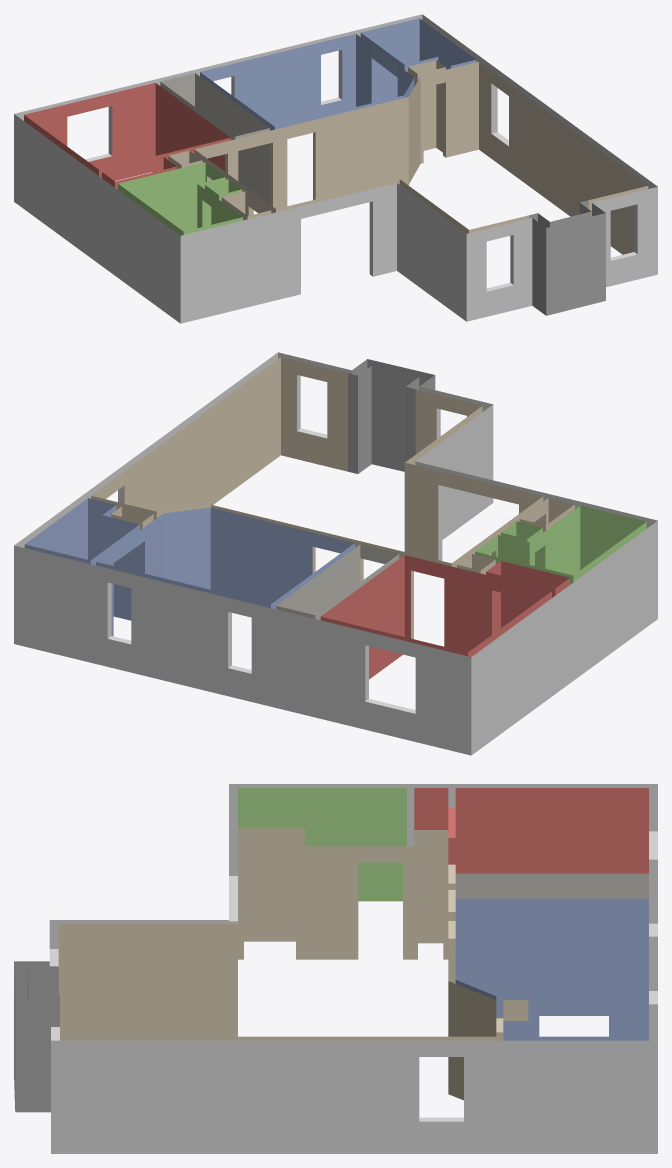
File: house_walls.fbx
3 views of the same model, one above another, from view 1: azimuth 30°, elevation 25°; view 2: azimuth 150°, elevation 25°; view 3: azimuth 270°, elevation 25° (orthographic). The views are drawn at different scales.
Visible parts, largest first — view 1: WallsFull; view 2: WallsFull; view 3: WallsFull.
Part boxes in pixels (x1,y1,x2,y2): WallsFull: (14, 14, 657, 323); WallsFull: (14, 352, 657, 755); WallsFull: (14, 784, 657, 1153).
Size of the model in its own units: 1099 by 213 by 1037.
